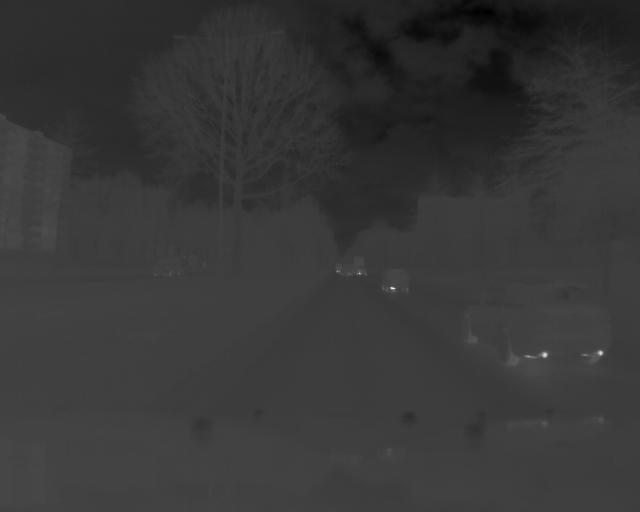car: (460, 279, 611, 377), (378, 267, 411, 296)
